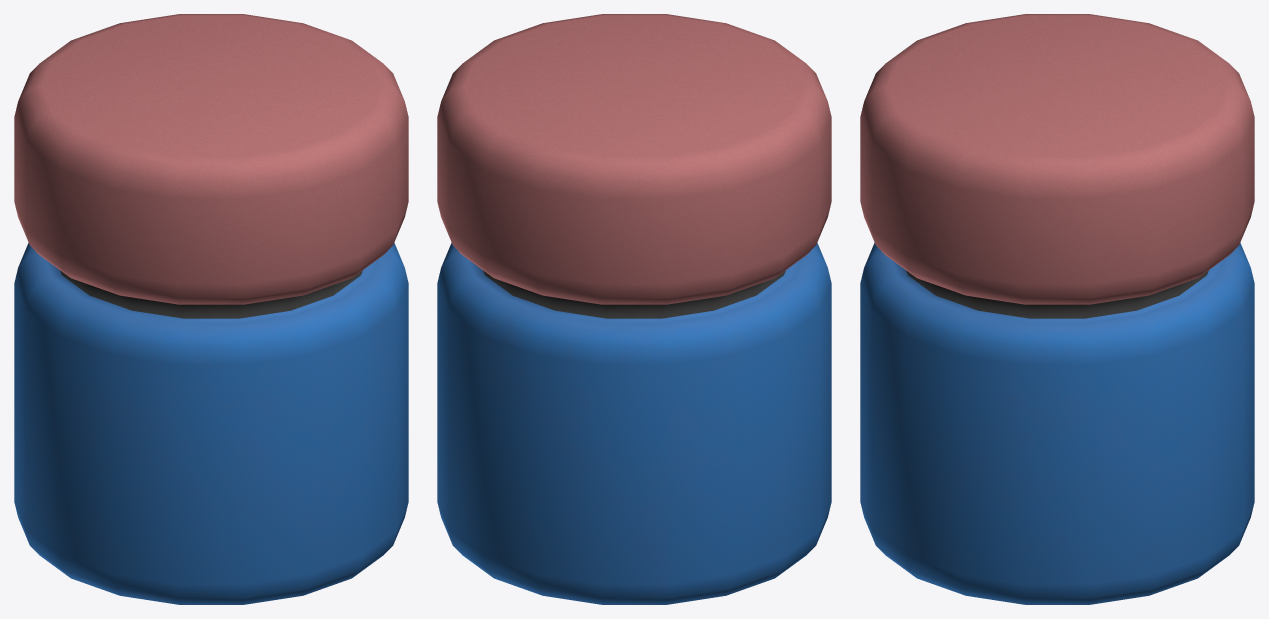
The model's file is OBS0110289.fbx.
3 renders of one model, left to right at view 1: azimuth 30°, elevation 25°; view 2: azimuth 150°, elevation 25°; view 3: azimuth 270°, elevation 25°, orthographic.
Parts seen in each view (by area): view 1: smOBS0110289; view 2: smOBS0110289; view 3: smOBS0110289.
Boxes of the visible parts, x1,y1,x2,y2 form: smOBS0110289: [14, 14, 408, 604]; smOBS0110289: [437, 14, 831, 604]; smOBS0110289: [860, 14, 1254, 604].
Size of the model in its own units: 56.01 by 71.09 by 56.87.
1 material, 1 textured.
